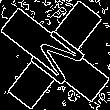M_SE: (21, 21, 89, 89)
